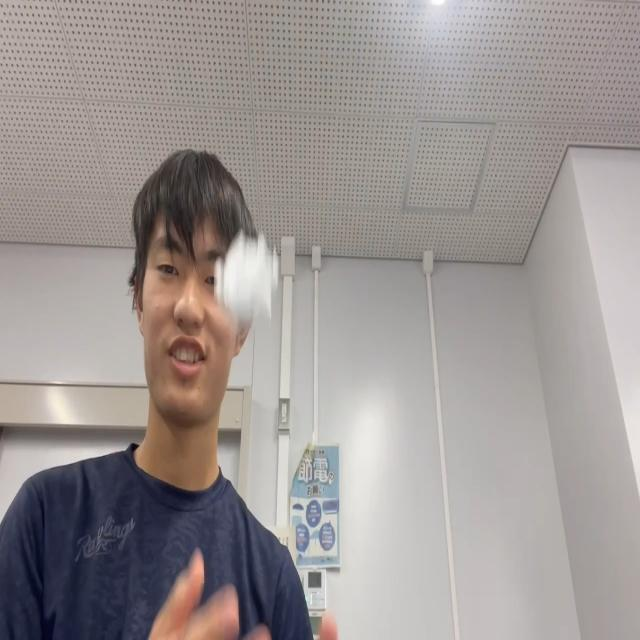paper: (214, 228, 278, 332)
